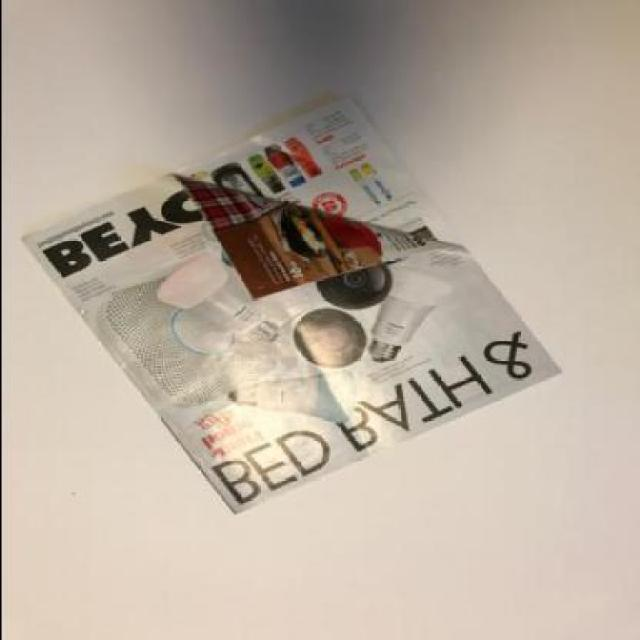paper: (19, 97, 562, 515)
